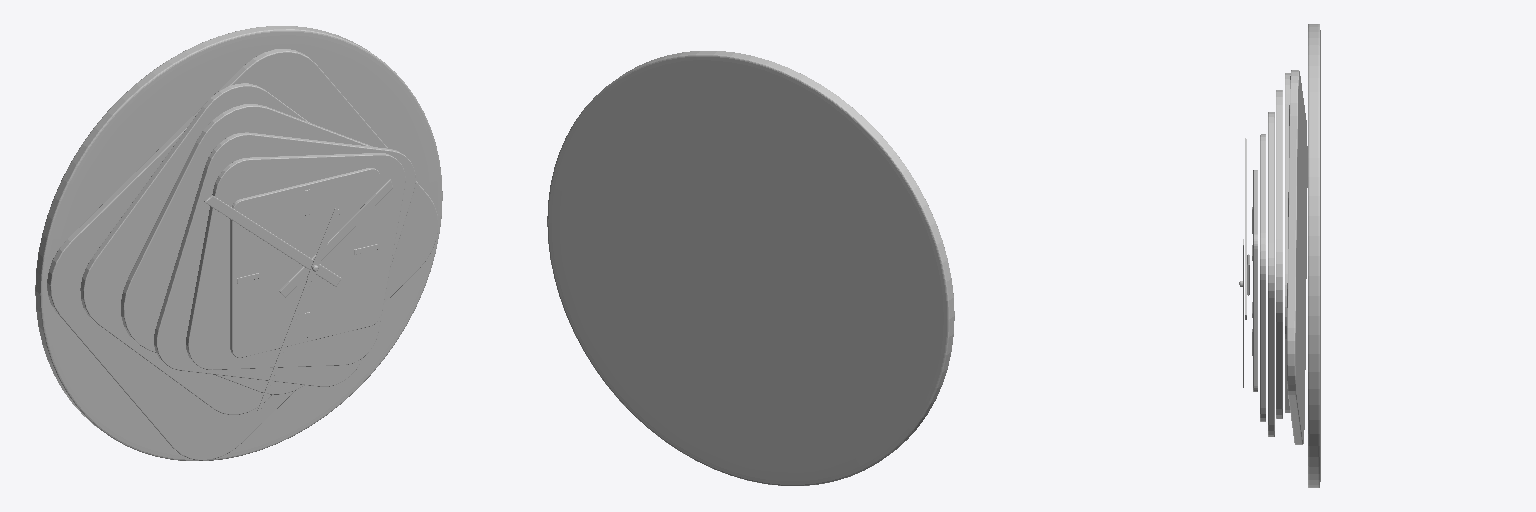
The model's file is wall-clock-66-2020-obj.obj.
The picture shows the model from 3 angles: view 1: azimuth 30°, elevation 25°; view 2: azimuth 150°, elevation 25°; view 3: azimuth 270°, elevation 25°; orthographic projection.
Visible parts, largest first — view 1: wall_clock_66_003, wall_clock_66_001; view 2: wall_clock_66_003; view 3: wall_clock_66_003, wall_clock_66_001.
Boxes of the visible parts, <box> form: wall_clock_66_003: <box>35,26,442,460</box>; wall_clock_66_001: <box>204,179,392,411</box>; wall_clock_66_003: <box>547,51,954,485</box>; wall_clock_66_003: <box>1253,24,1320,487</box>; wall_clock_66_001: <box>1239,138,1249,387</box>.
Bounding box in the file's own units: 94.04 × 94.03 × 16.41.